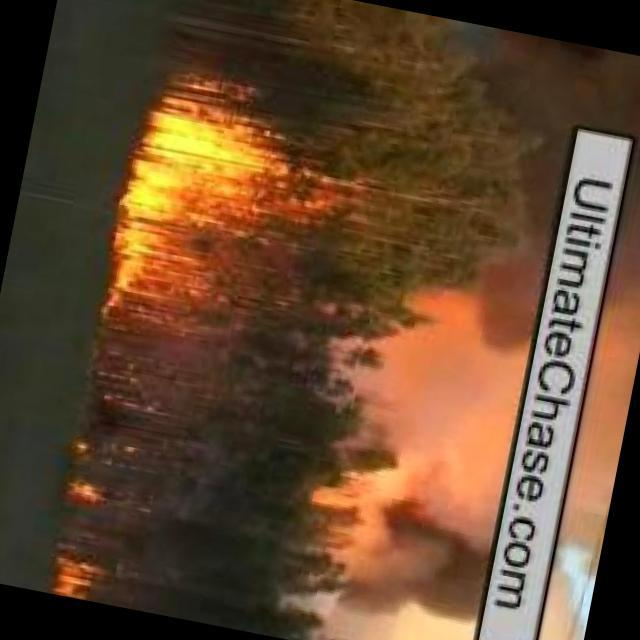Fire: (99, 91, 280, 336), (47, 560, 105, 604), (65, 476, 117, 522)
